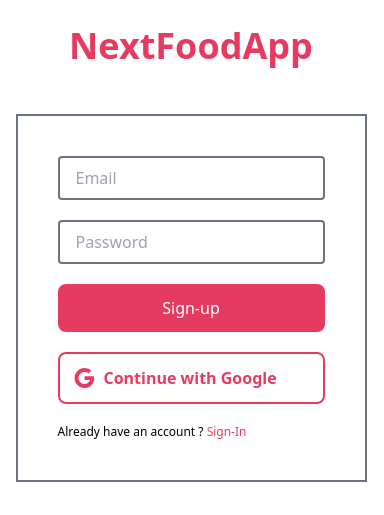
Sign-up Page › should shows error messages if input fields are incorrect
This screenshot has width=384, height=515.
Type "N0t_aCorrect@email.45" into the field with placeholder "Email" at (191, 178), box [58,156,324,200]
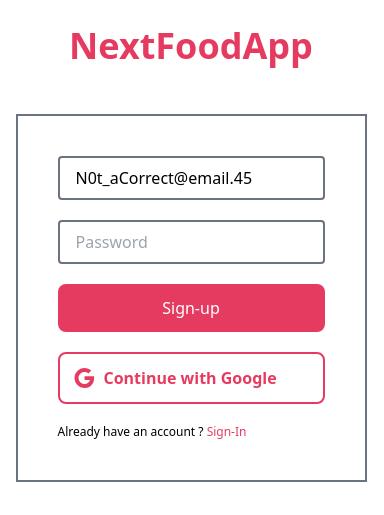
Type "123" into the password field with placeholder "Password" at (191, 242), box [58,220,324,264]
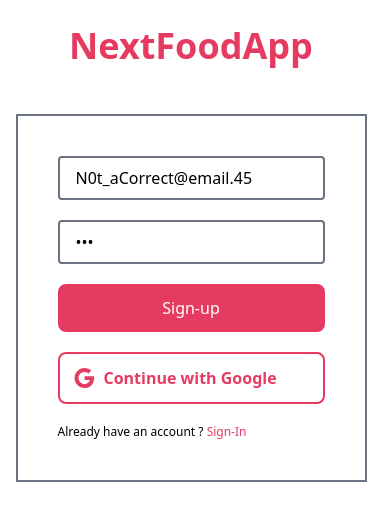
Click the button "Sign-up" at (191, 308), box [58,284,324,332]
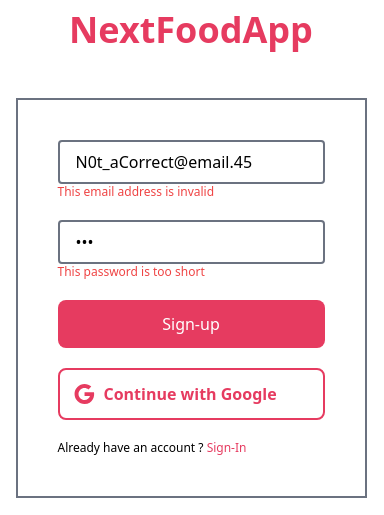
Expected: the text "This email address is invalid" is shown, [58,183,214,200]
Expected: the text "This password is too short" is shown, [58,263,205,280]
